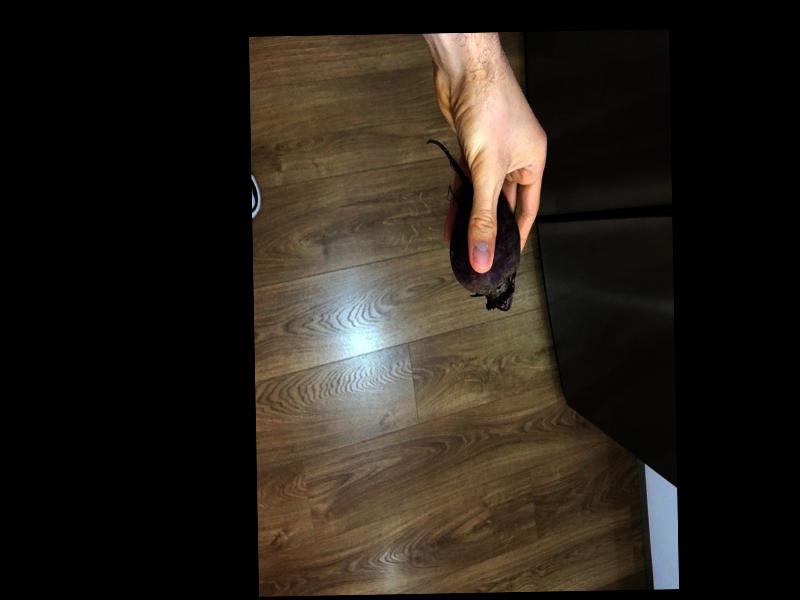Beet: (425, 139, 522, 313)
